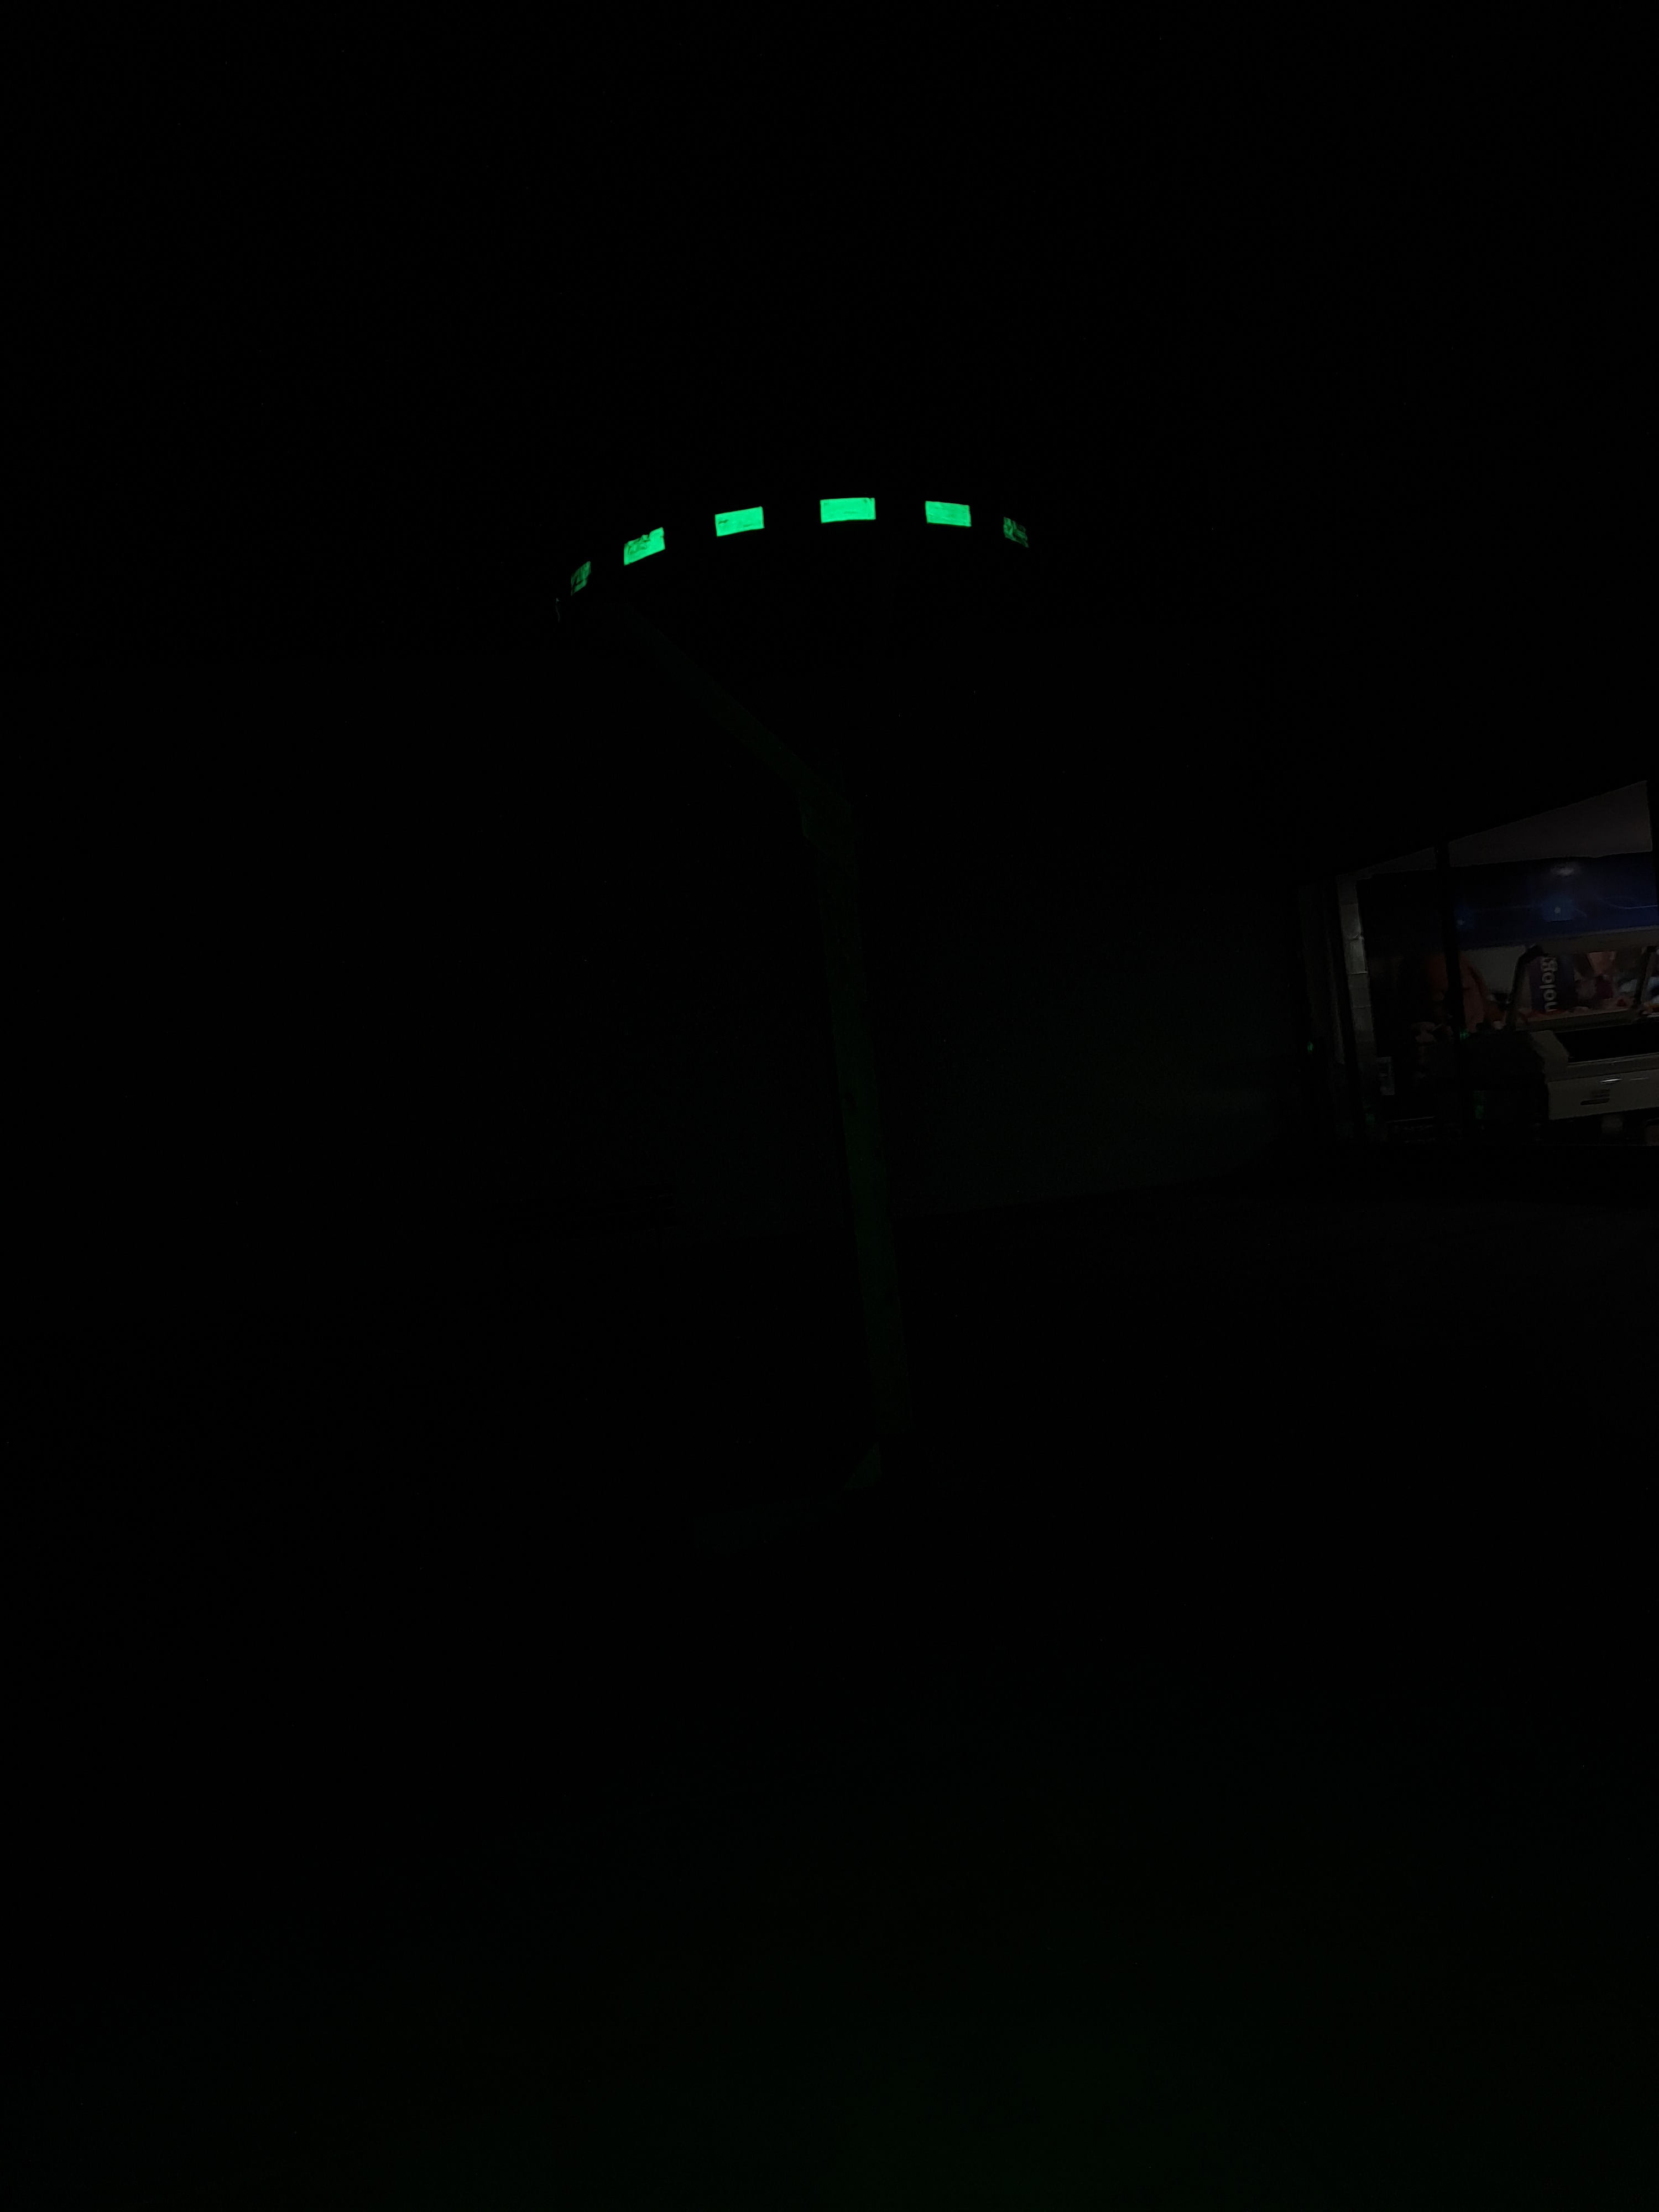hoop: (530, 460, 1080, 627)
